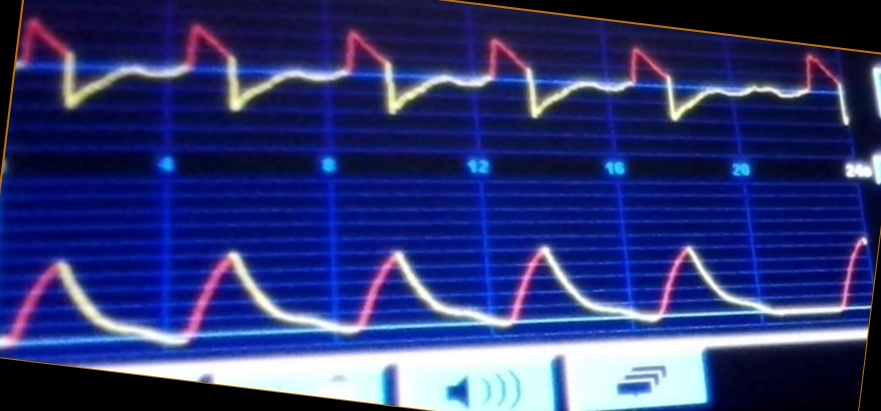Ineffective_effort Flow: (20, 12, 852, 129)
Ineffective_effort Volume: (2, 223, 867, 348)
